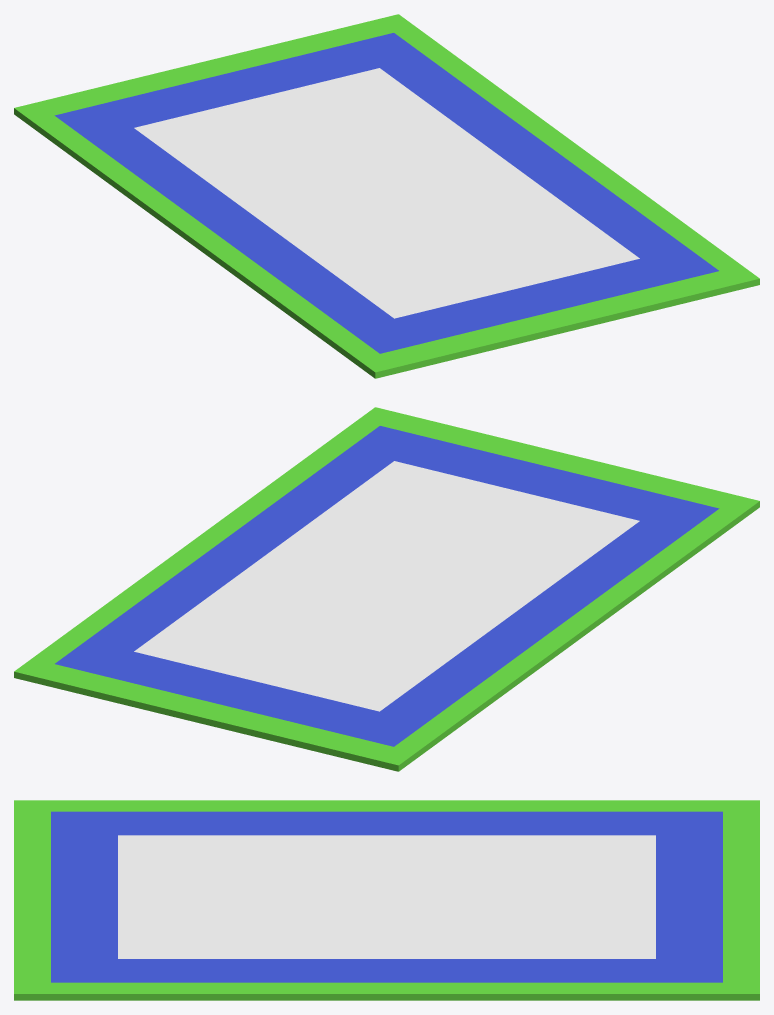
Rendered from carpet.fbx.
3 views of the same model, one above another, from view 1: azimuth 30°, elevation 25°; view 2: azimuth 150°, elevation 25°; view 3: azimuth 270°, elevation 25° (orthographic). The views are drawn at different scales.
Visible parts, largest first — view 1: Cube; view 2: Cube; view 3: Cube.
Part boxes in pixels (bbox=[...]): Cube: bbox=[14, 14, 759, 378]; Cube: bbox=[14, 407, 759, 771]; Cube: bbox=[14, 800, 759, 1000].
Bounding box in the file's own units: 623 × 9.88 × 1014.
